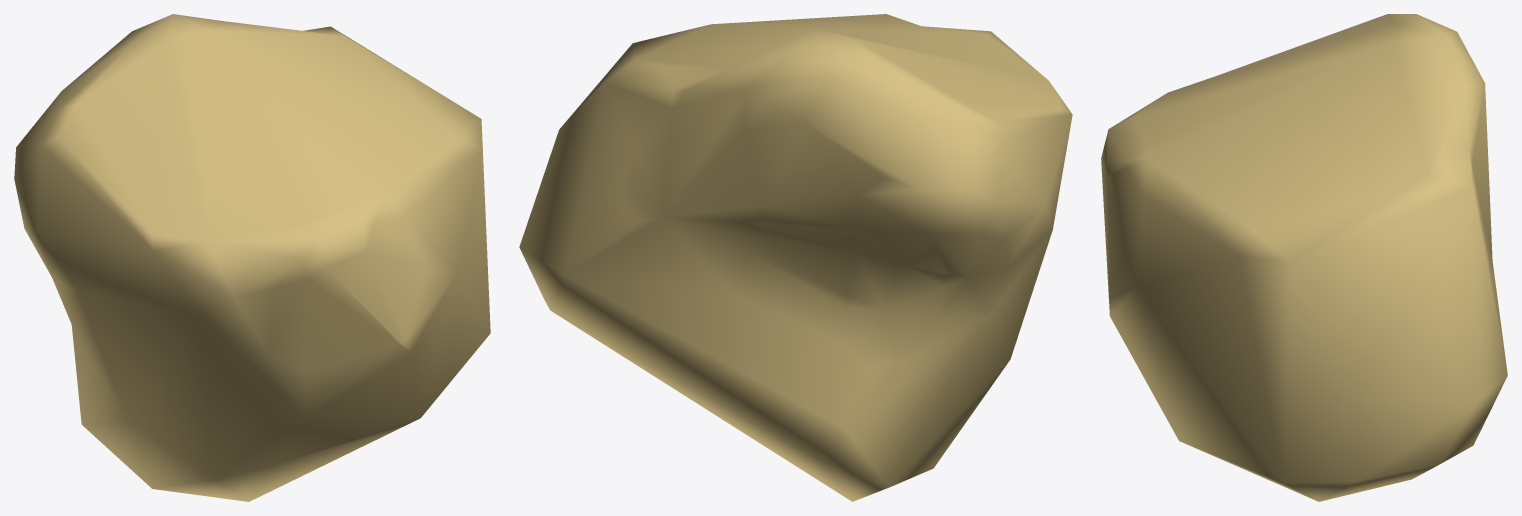
3 renders of one model, left to right at view 1: azimuth 30°, elevation 25°; view 2: azimuth 150°, elevation 25°; view 3: azimuth 270°, elevation 25°, orthographic. The views are drawn at different scales.
Parts seen in each view (by area): view 1: 左侧第五趾中节趾骨; view 2: 左侧第五趾中节趾骨; view 3: 左侧第五趾中节趾骨.
Part boxes in pixels (x1=…): 左侧第五趾中节趾骨: x1=14, y1=14, x2=490, y2=501; 左侧第五趾中节趾骨: x1=519, y1=14, x2=1072, y2=501; 左侧第五趾中节趾骨: x1=1101, y1=14, x2=1507, y2=501.
Size of the model in its own units: 0.0127 by 0.0115 by 0.00973.
